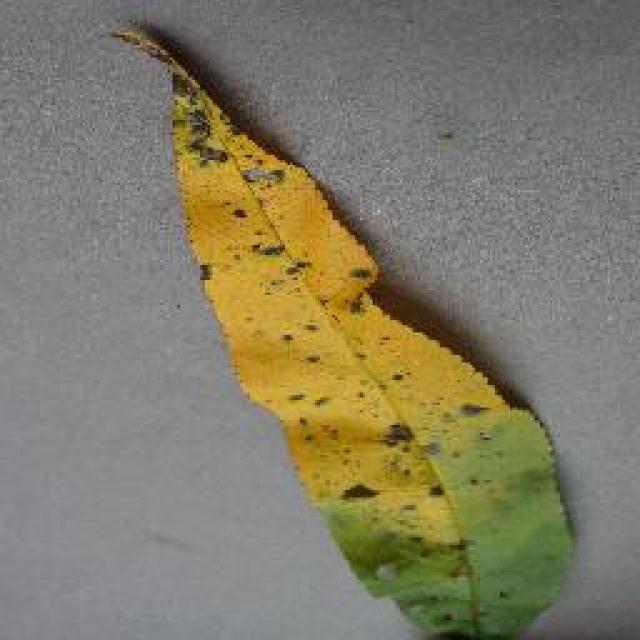Peach_Bacterial_Spot: (155, 85, 517, 543)
